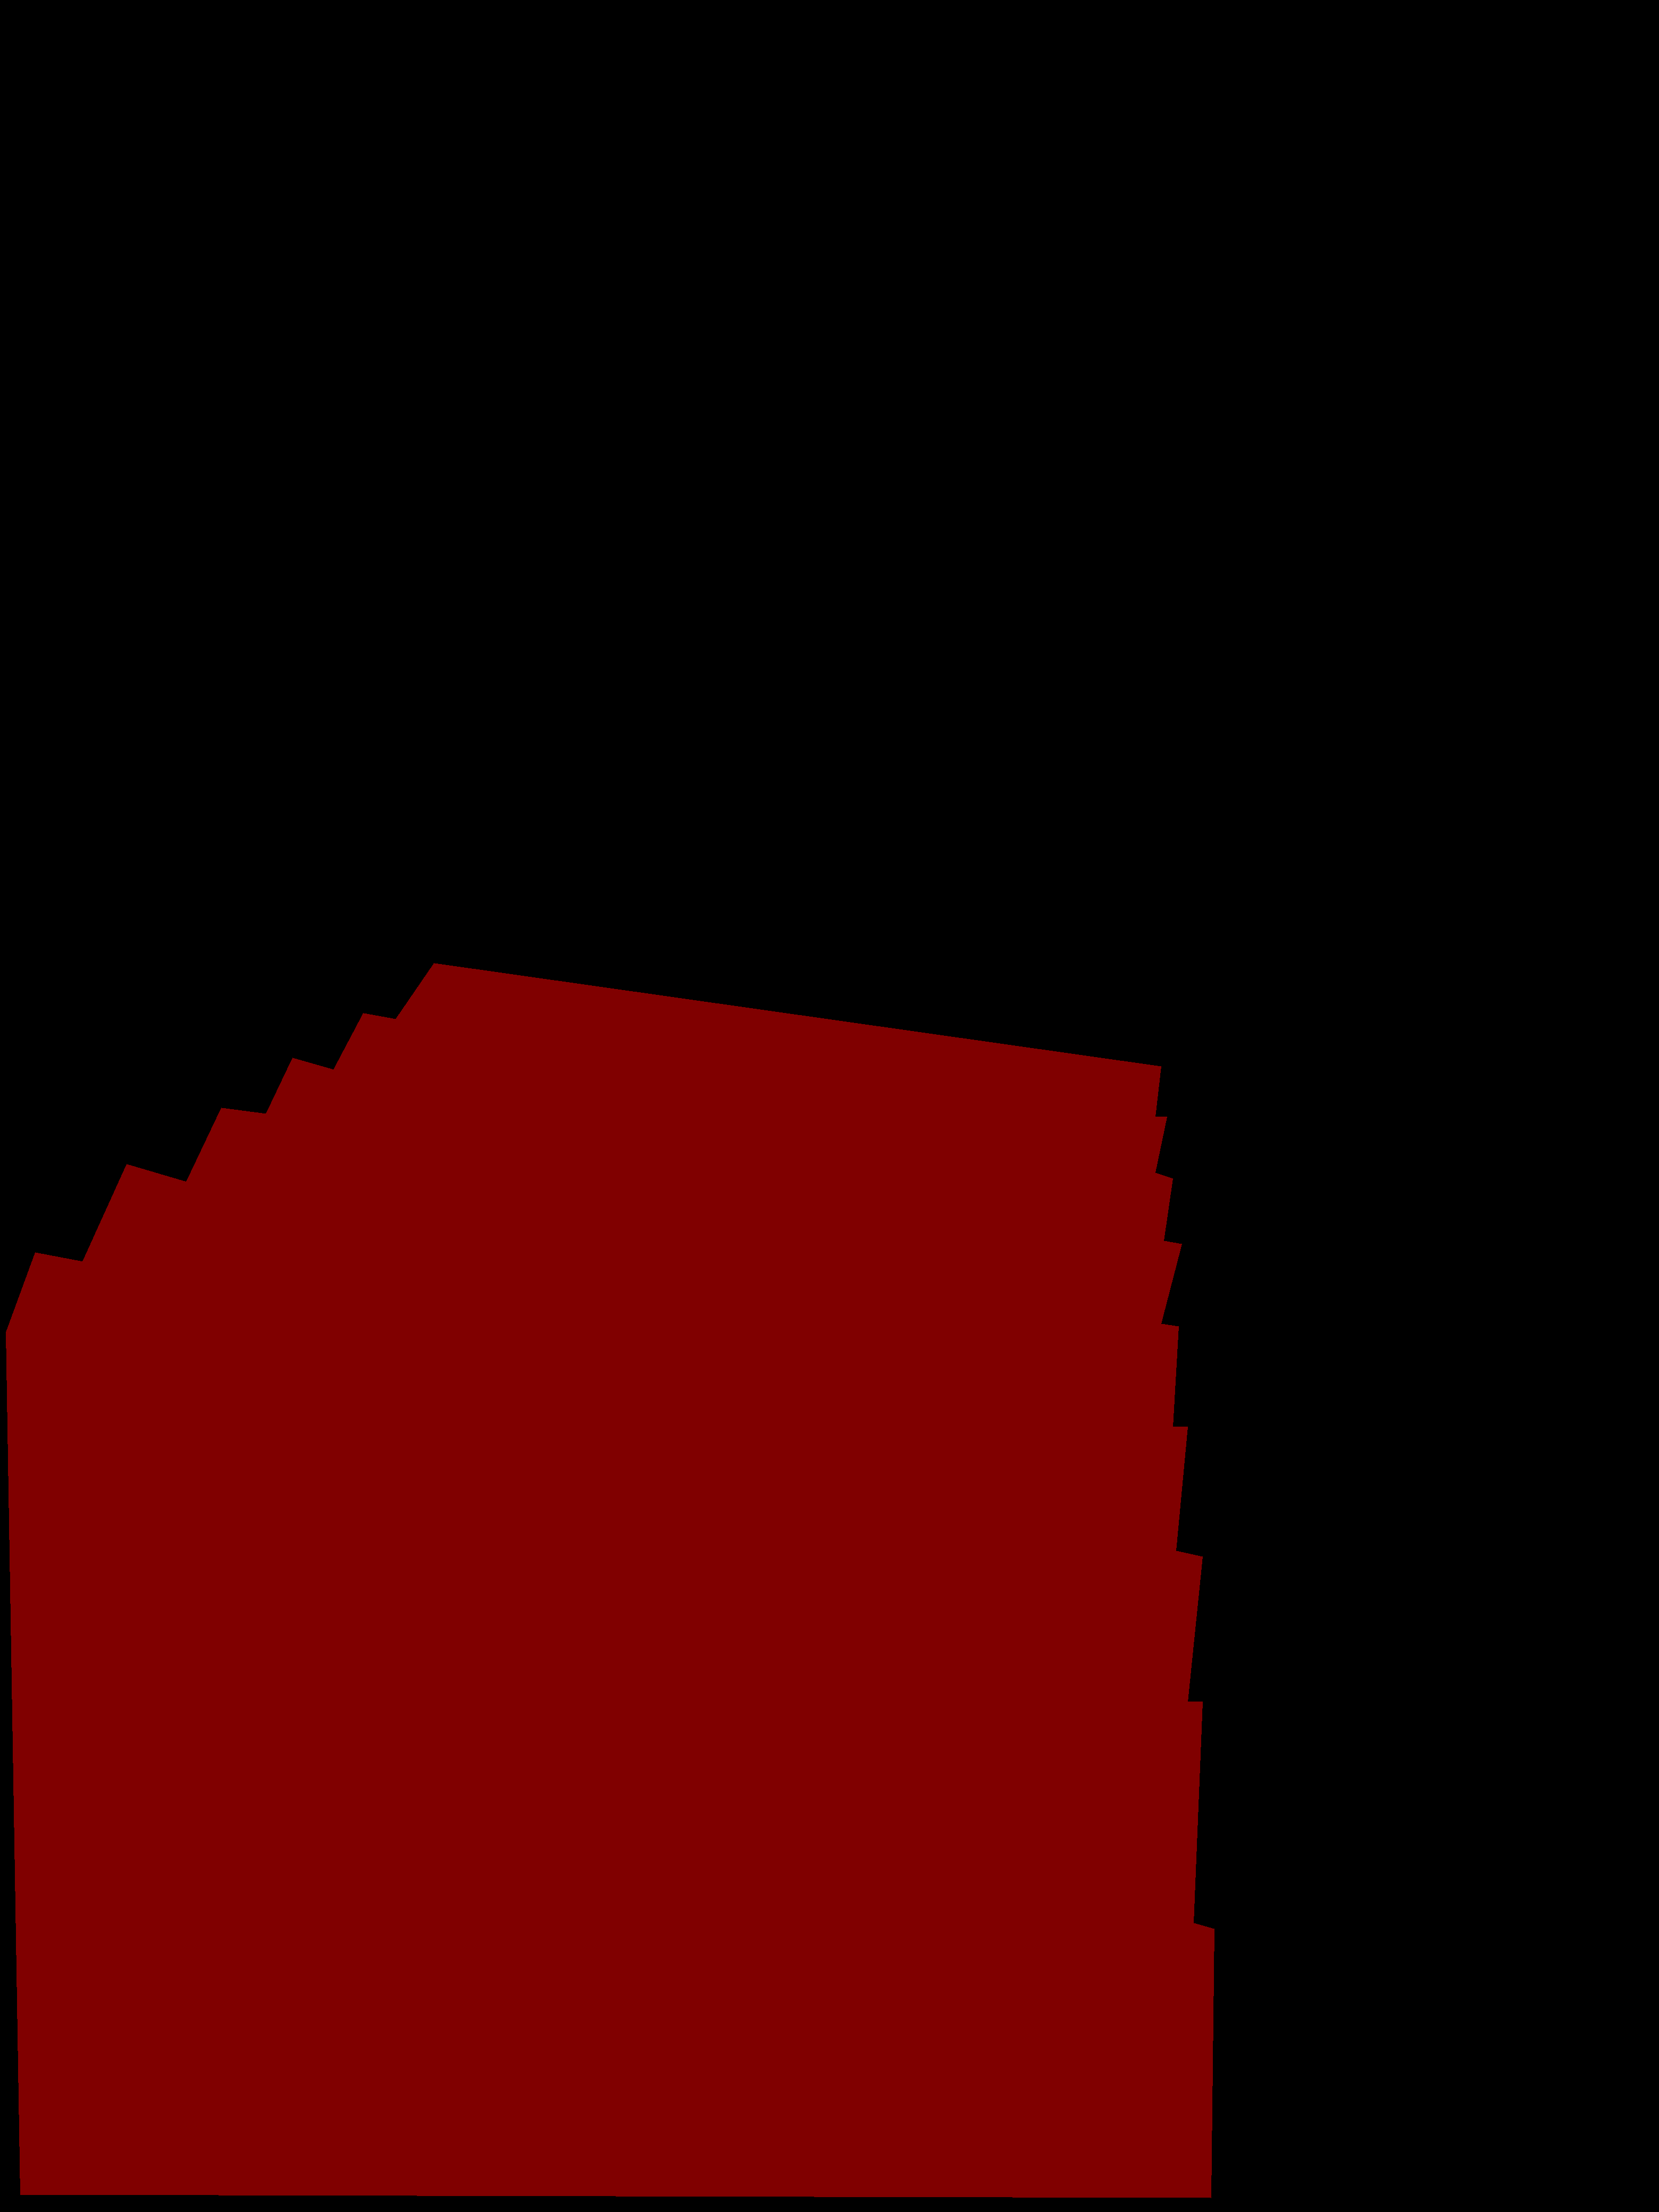stair: (5, 963, 1215, 2198)
